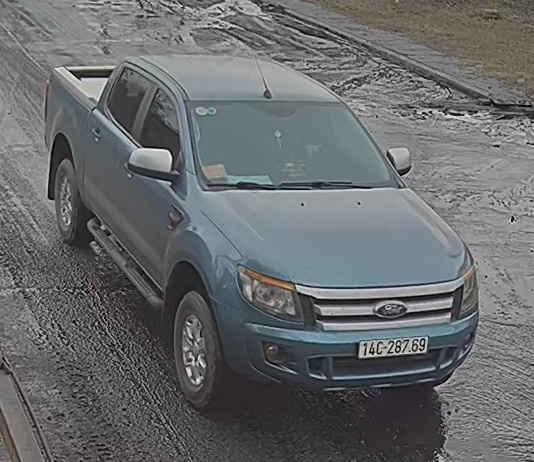vehicle plate: (354, 333, 440, 362)
